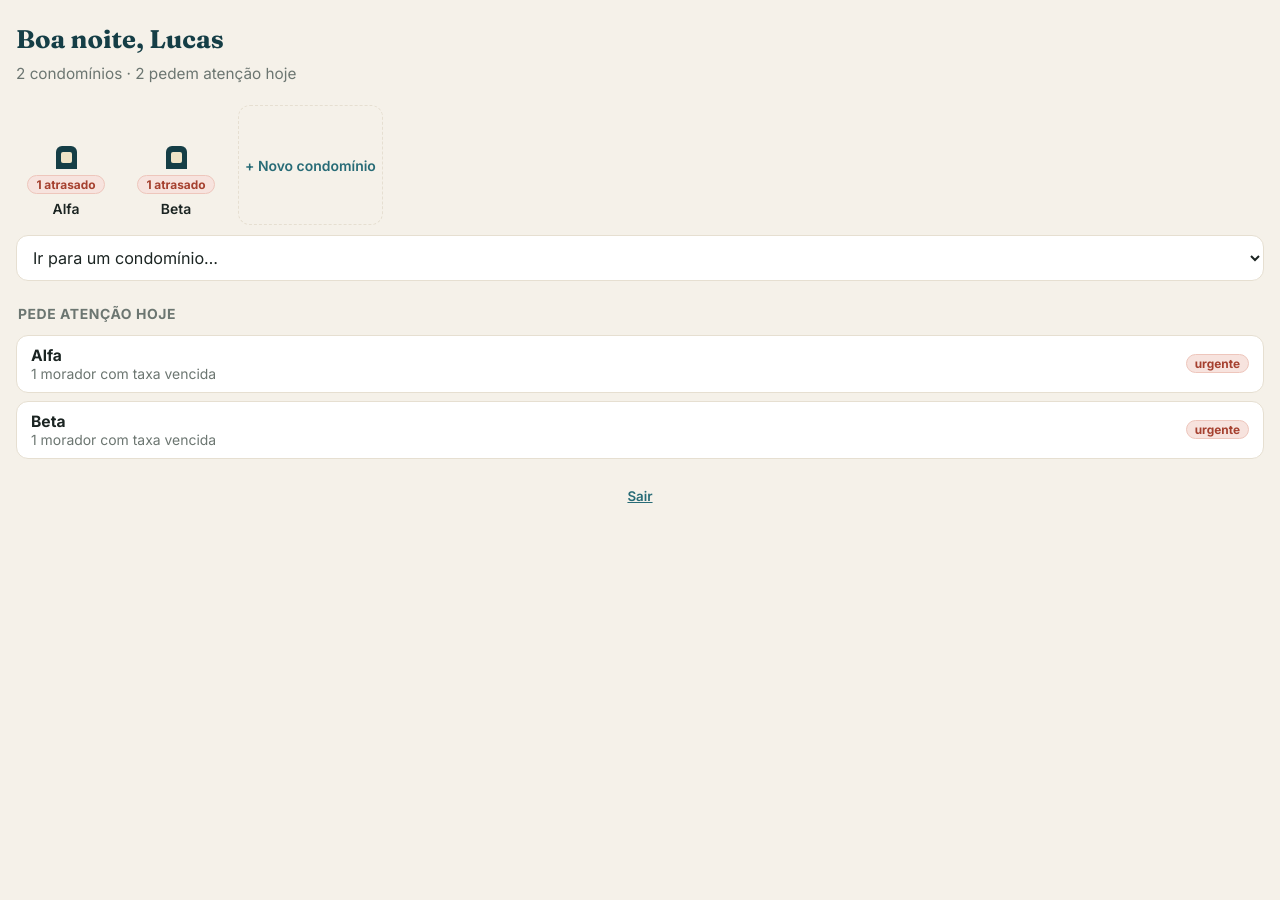
Test: App street › switching from the street to condo B never shows condo A residents
Click the button with aria-label "Alfa, 1 apartamento".
click(66, 182)  # box [18, 138, 114, 225]
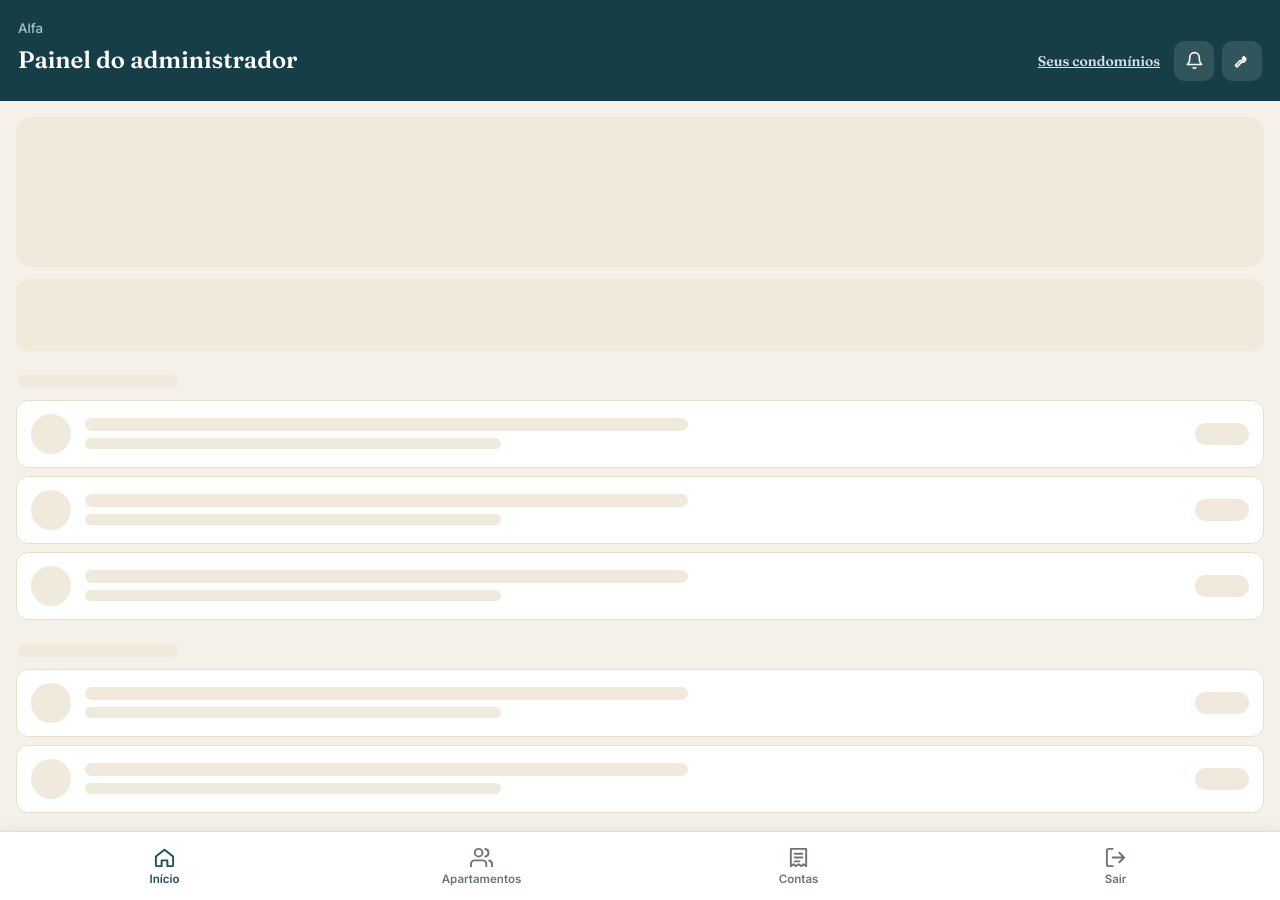
Click the button "Apartamentos".
click(482, 866)  # box [323, 840, 640, 892]
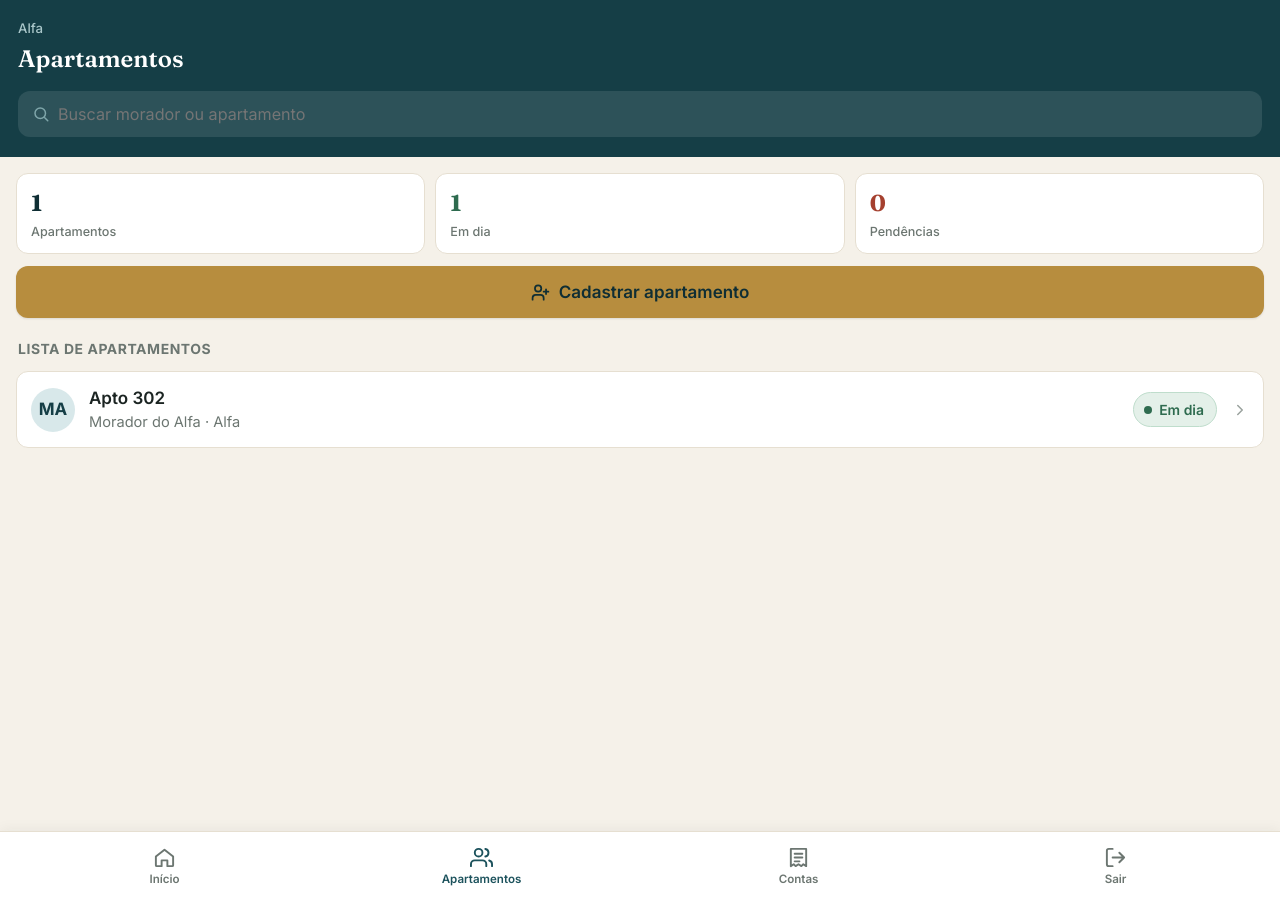
Now the text "Morador do Alfa · Alfa" is shown, box [89, 413, 240, 431]
Click the button "Início".
click(164, 866)  # box [6, 840, 323, 892]
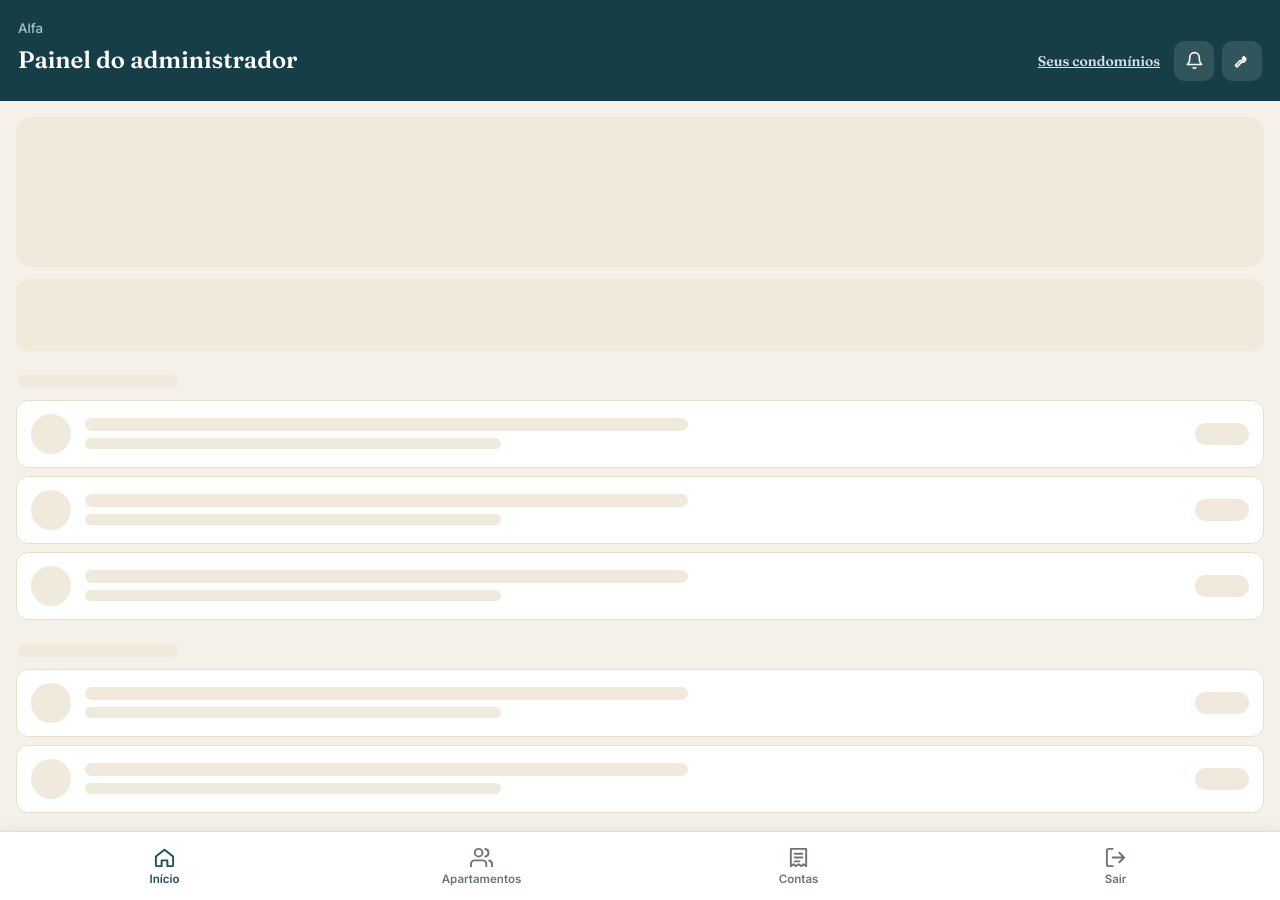
Click the button "Seus condomínios".
click(1099, 60)  # box [1032, 44, 1166, 76]
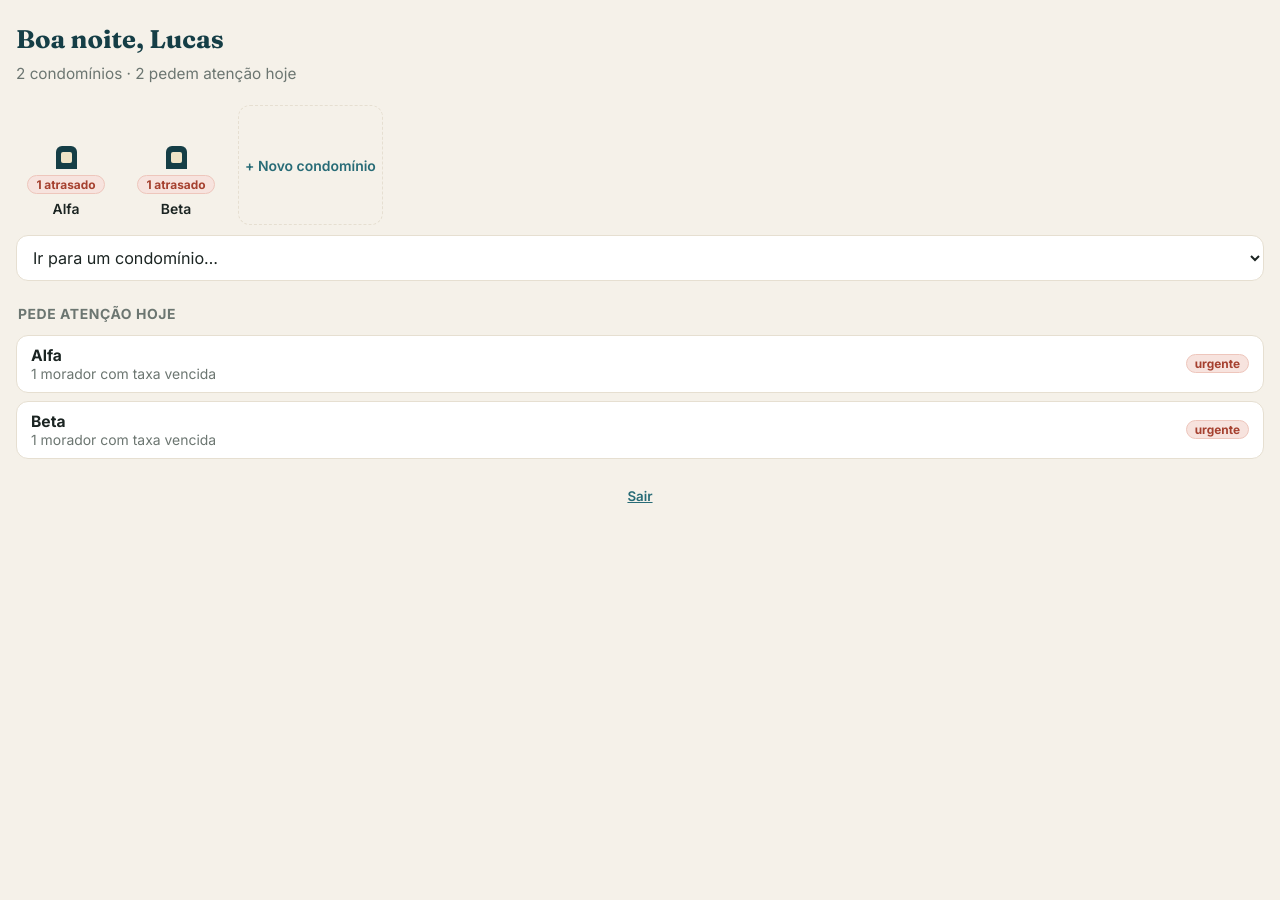
Click the button with aria-label "Beta, 1 apartamento".
click(176, 182)  # box [128, 138, 224, 225]
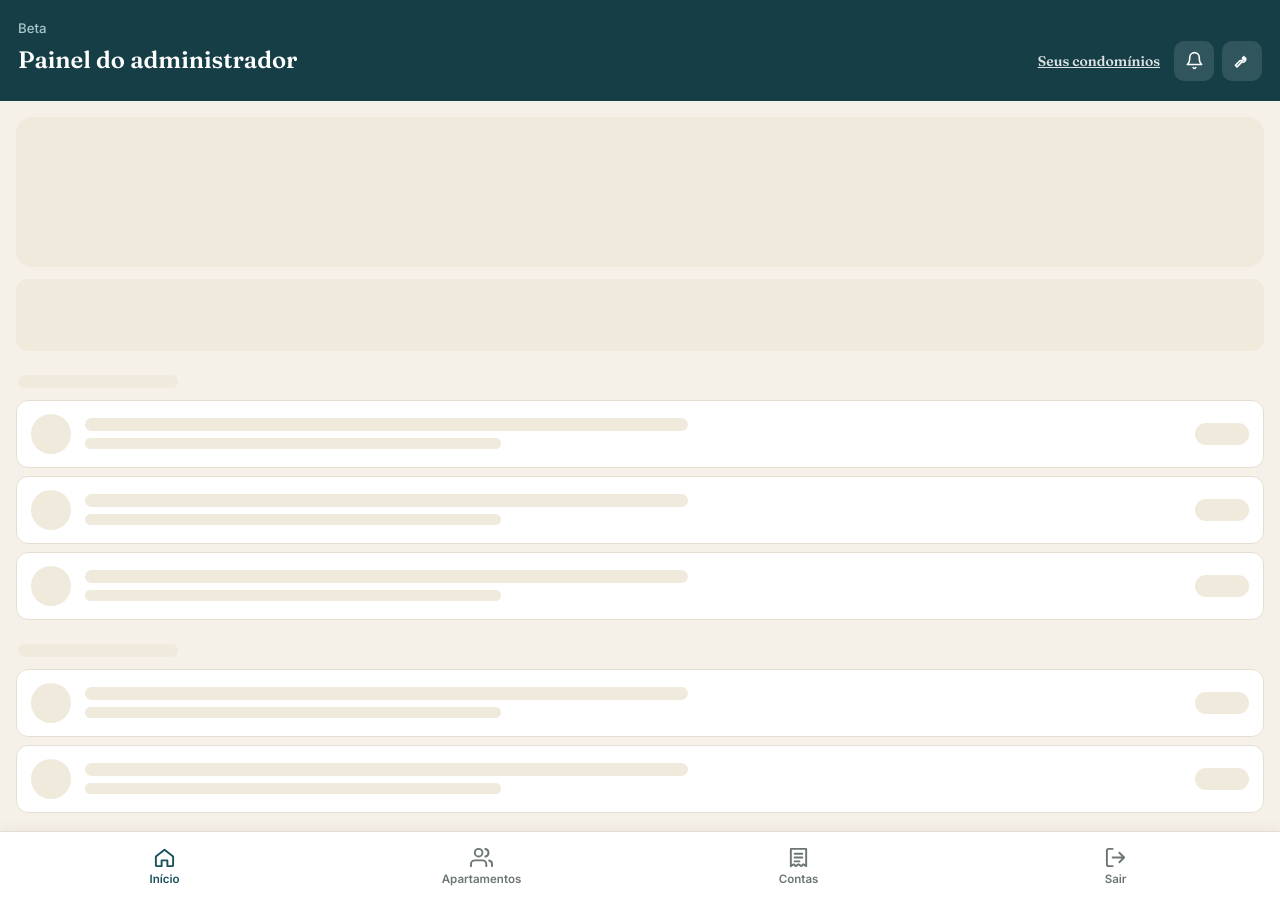
Click the button "Apartamentos".
click(482, 866)  # box [323, 840, 640, 892]
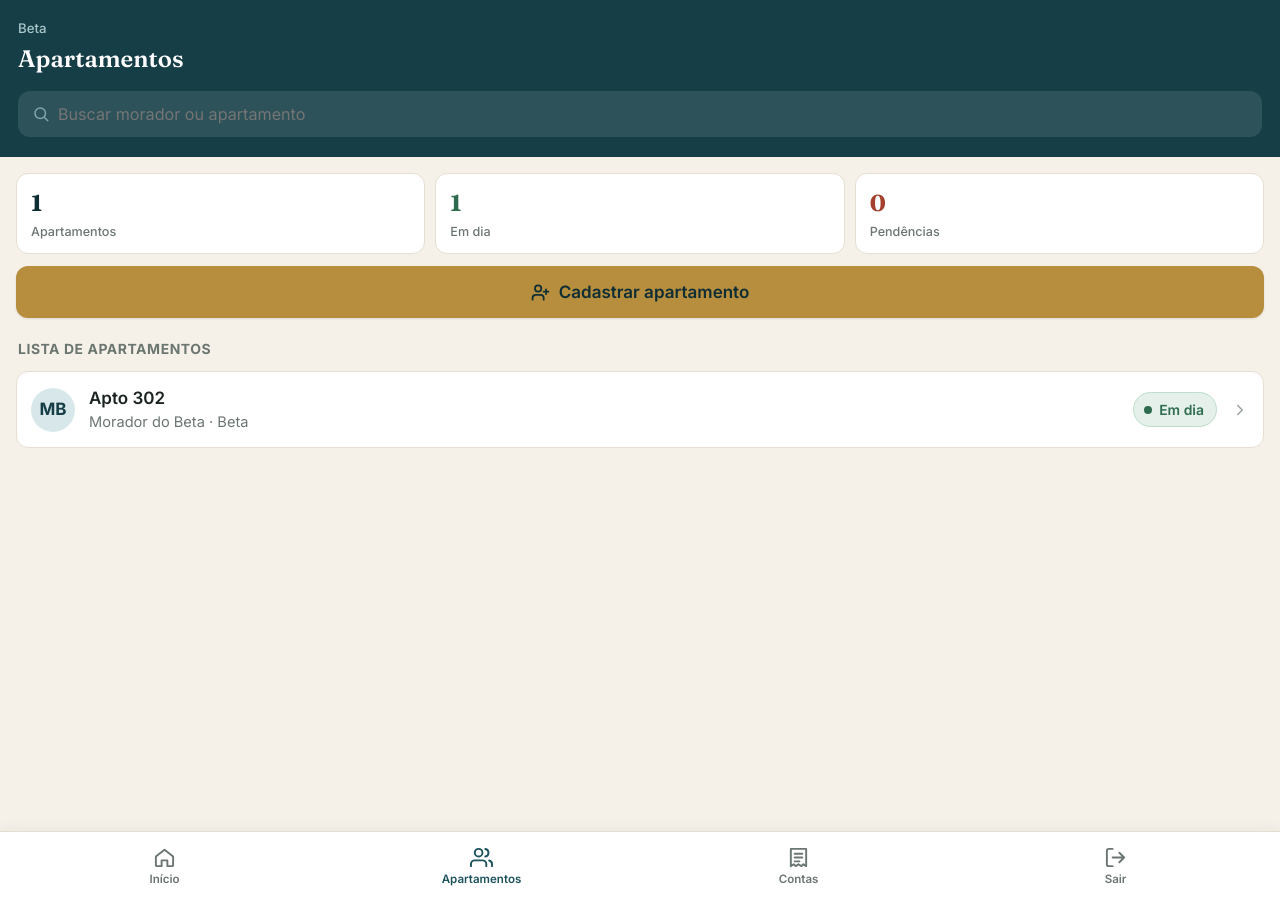
Expected: the button "Morador do Alfa" is not shown
Now the text "Morador do Beta · Beta" is shown, box [89, 413, 248, 431]
